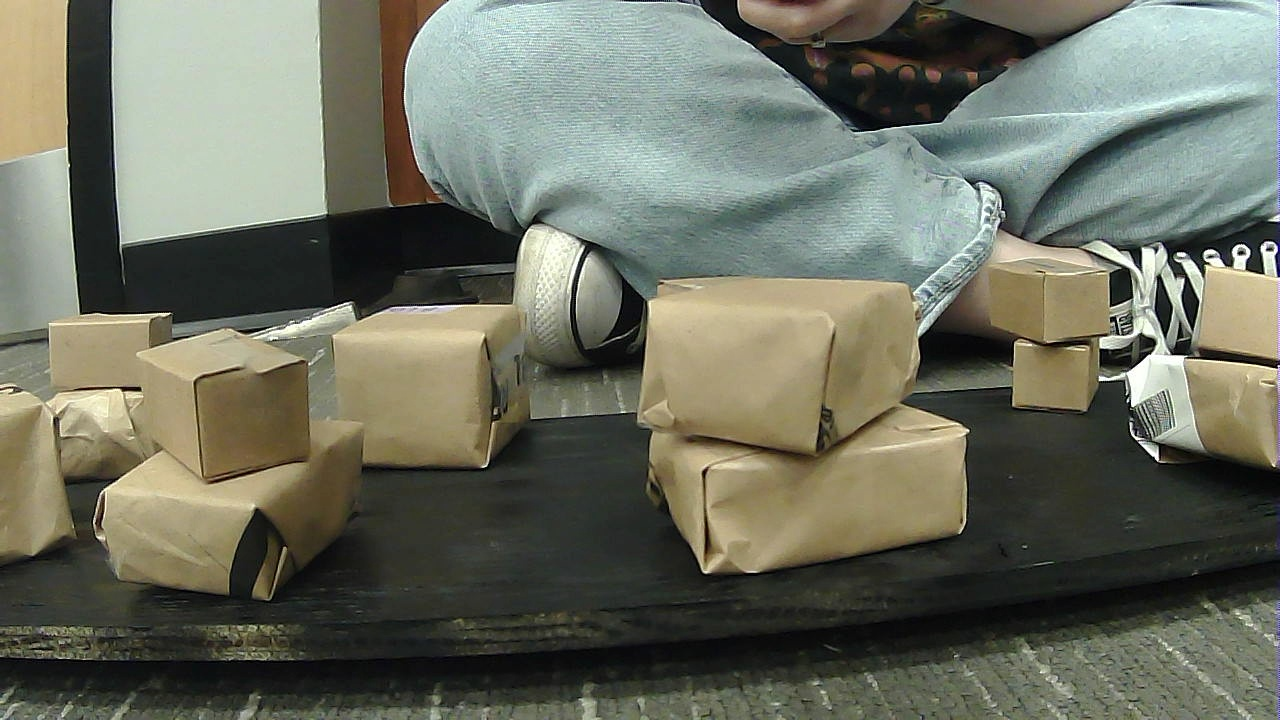package: (619, 405, 968, 583), (647, 264, 920, 446), (110, 419, 364, 595), (334, 304, 537, 475), (140, 330, 320, 485), (1128, 344, 1272, 476), (3, 381, 73, 574), (985, 259, 1111, 347), (50, 384, 155, 476), (1185, 262, 1274, 361), (1002, 334, 1104, 418), (43, 316, 154, 392)
stacked: (630, 282, 967, 568), (109, 335, 382, 616), (1146, 262, 1277, 467), (985, 258, 1119, 420), (42, 321, 161, 469)
